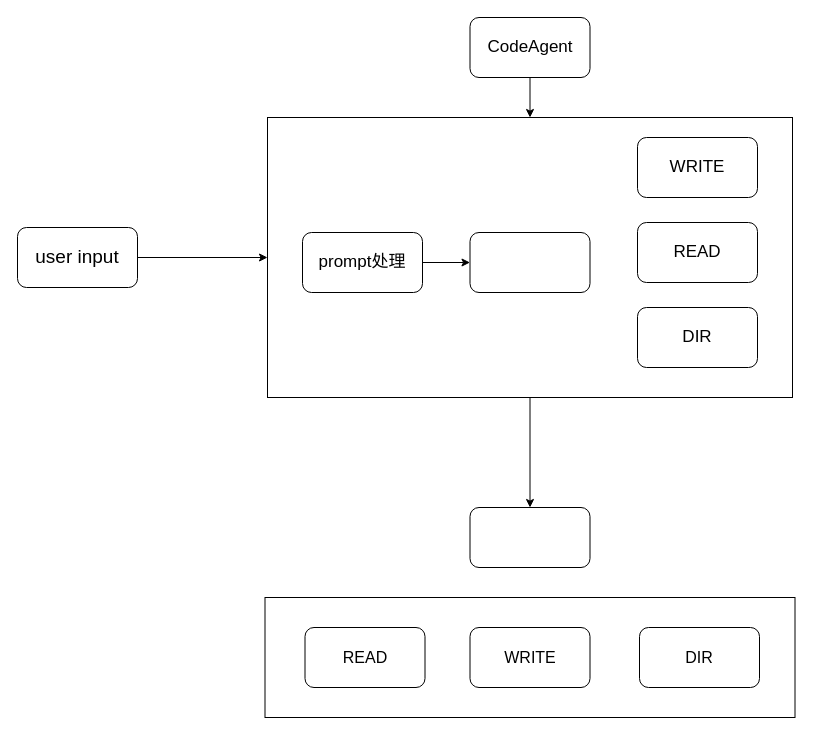
Image size: 813x735. Some labels were removed from this diagram. The box of each missing label's shape, as (x1, y1, x2, y2) in pixels:
GLM API: (469, 232, 590, 292)
LOCALTOOLS: (469, 506, 590, 568)
